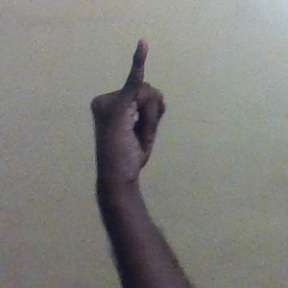I: (91, 36, 171, 175)
